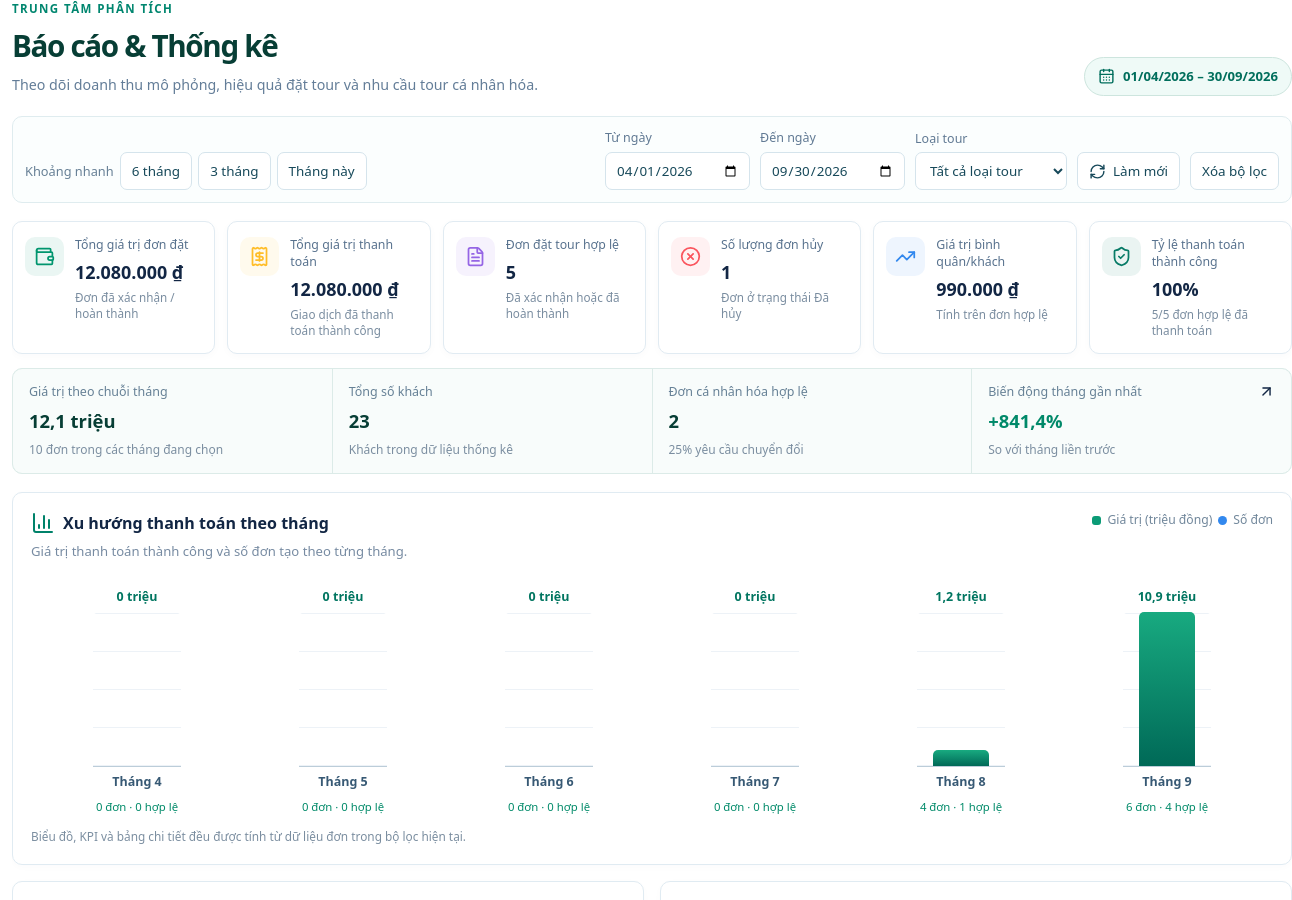
Scenario: shows no data and clears filters
In the date field labelled "Từ ngày": (678, 171) [605,152,750,190], type "2027-01-01"
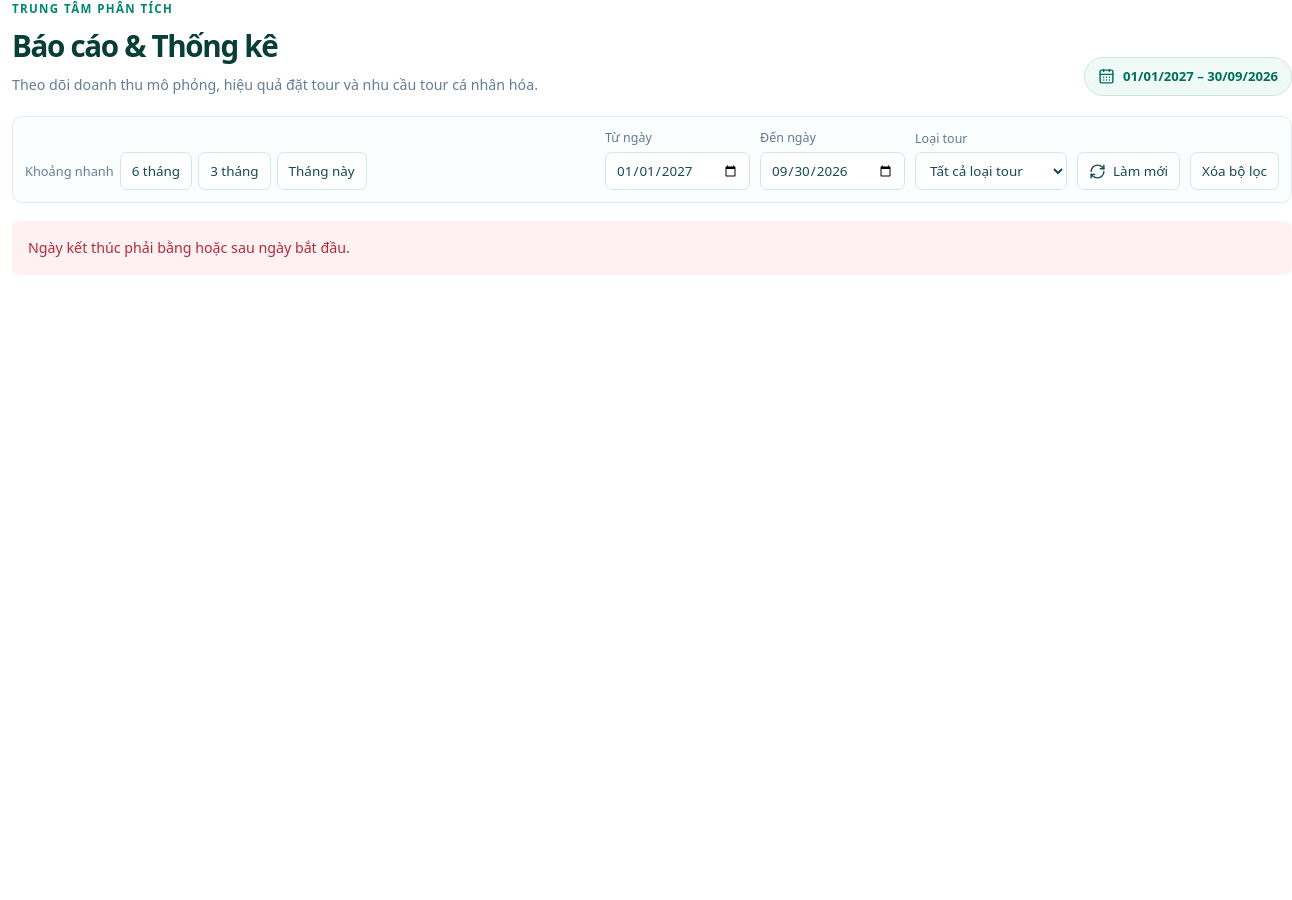
In the date field labelled "Đến ngày": (833, 171) [760,152,905,190], type "2027-02-01"
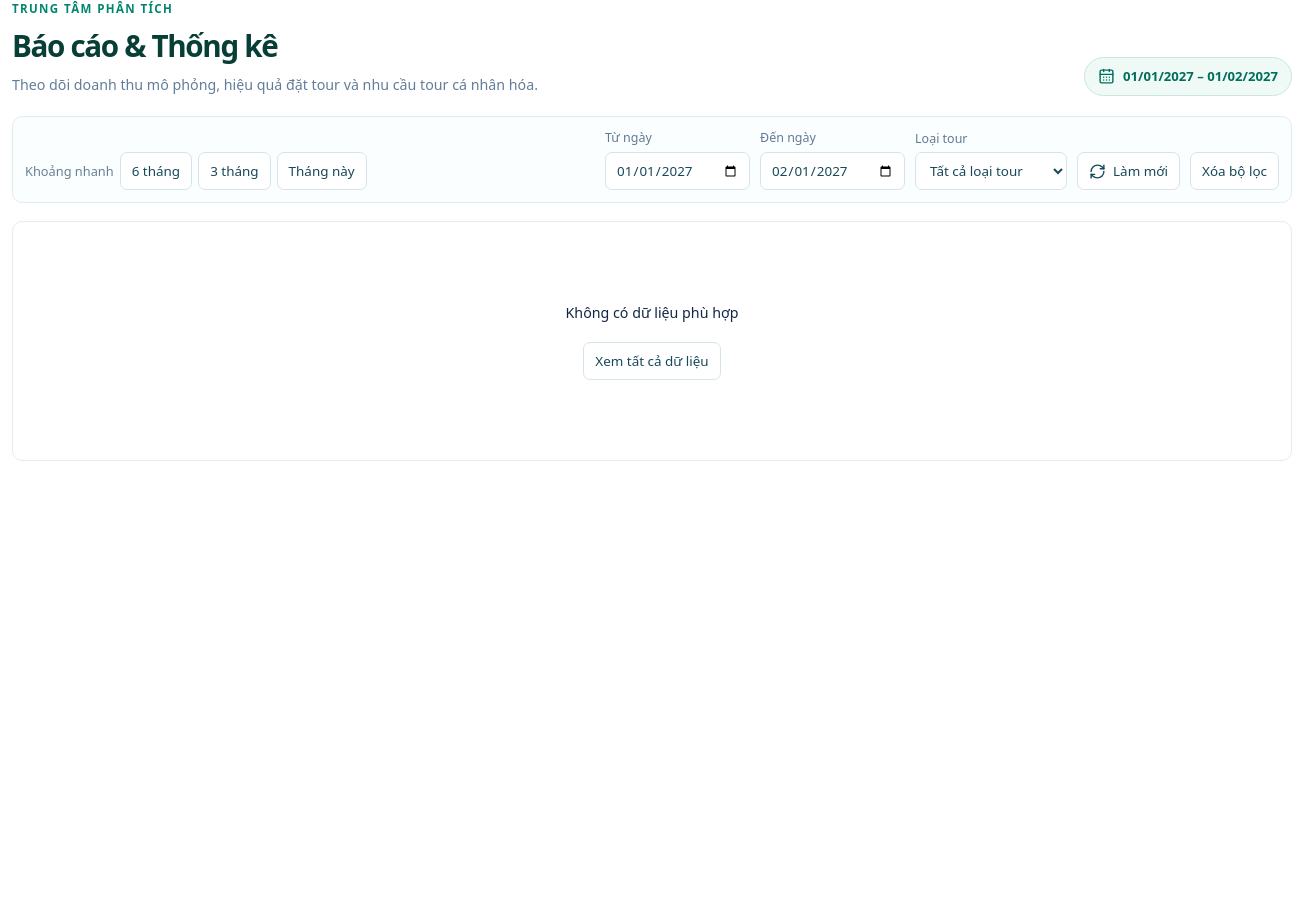
Result: the text "Không có dữ liệu phù hợp" is shown at [566,303,738,322]
Click the button "Xem tất cả dữ liệu": (652, 361) [583,342,721,380]
(page scrolled)
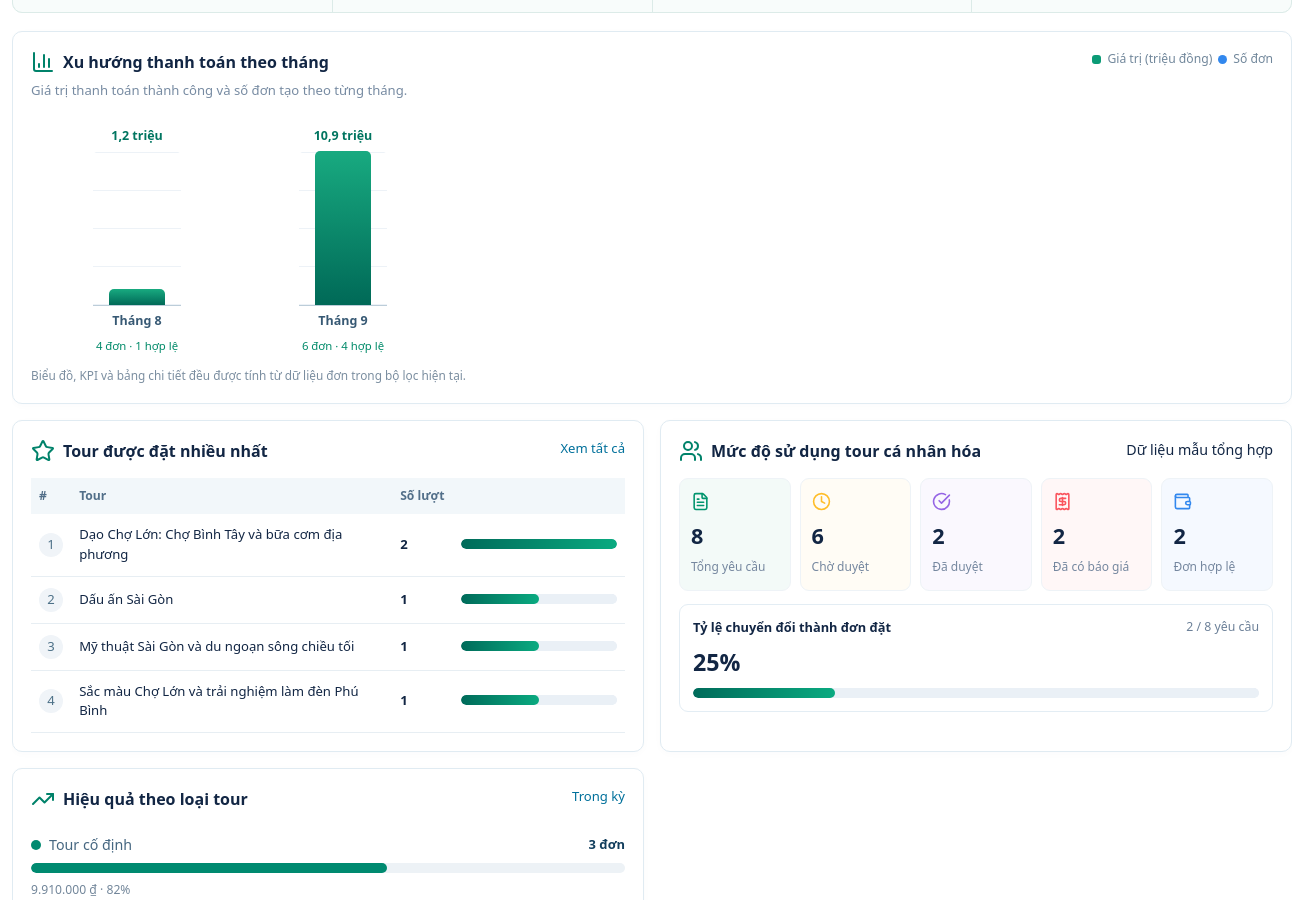
Result: the heading "Tour được đặt nhiều nhất" is shown at [31,439,268,463]
